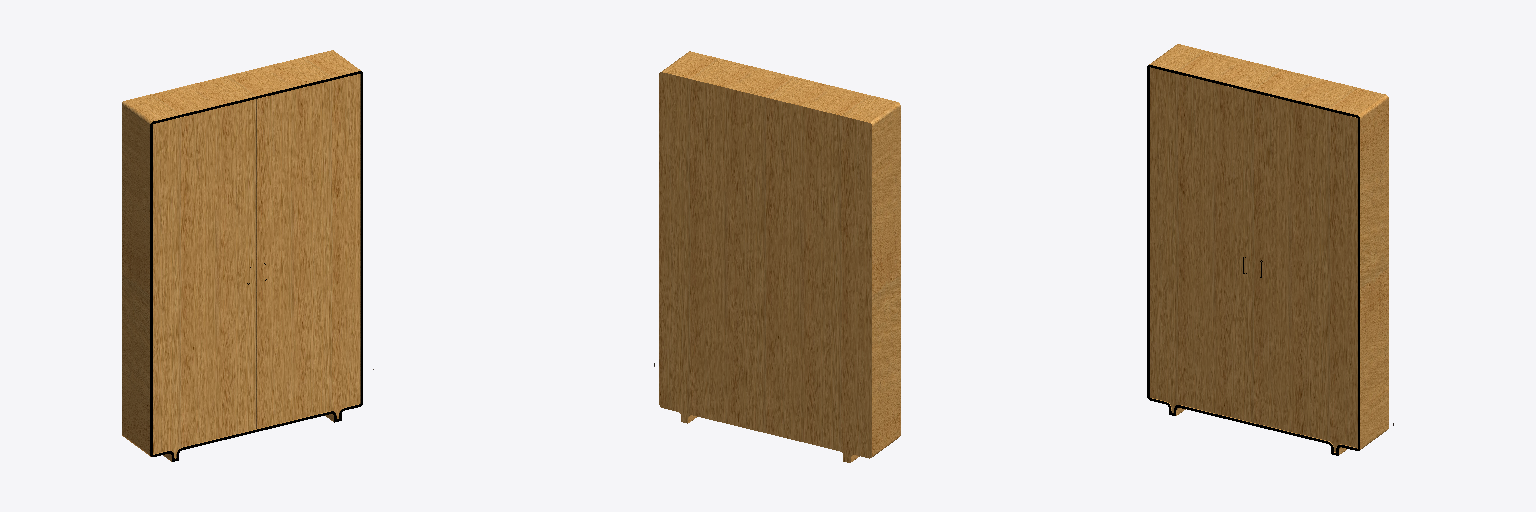
The picture shows the model from 3 angles: view 1: azimuth 30°, elevation 25°; view 2: azimuth 150°, elevation 25°; view 3: azimuth 330°, elevation 25°; orthographic projection.
Parts seen in each view (by area): view 1: Object003; view 2: Object003; view 3: Object003.
Part boxes in pixels (x1,y1,x2,y2): Object003: (122,50,362,461); Object003: (659,51,900,462); Object003: (1147,44,1388,455).
Size of the model in its own units: 37.04 by 51.23 by 8.07.
3 materials, 1 textured.